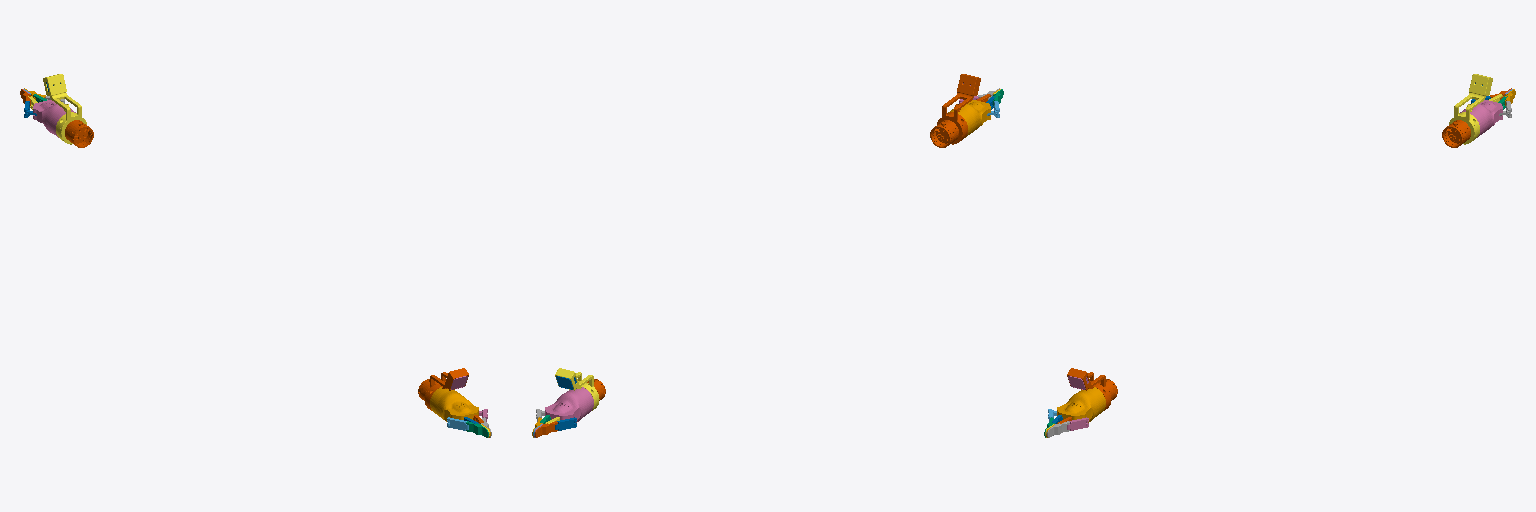
--- Render facts (derived) ---
Views: 3 orthographic renders of the robot side by side, from view 1: azimuth 30°, elevation 25°; view 2: azimuth 150°, elevation 25°; view 3: azimuth 330°, elevation 25°.
Robot: genie — 47 links, 46 joints (29 revolute, 1 prismatic, 16 fixed); root link base_footprint; default pose: every joint at zero.
Visible links, largest first — view 1: right_gripper_base, left_camera_stand, left_gripper_base, left_end_link, right_camera_stand; view 2: left_gripper_base, right_camera_stand, right_gripper_base, right_end_link, left_camera_stand; view 3: right_gripper_base, left_camera_stand, left_gripper_base, left_end_link, right_camera_stand.
Boxes of the visible links, x1,y1,x2,y2 form: right_gripper_base: [430, 387, 478, 421]; left_camera_stand: [43, 74, 86, 144]; left_gripper_base: [33, 100, 75, 137]; left_end_link: [65, 120, 93, 147]; right_camera_stand: [425, 368, 468, 410]; left_gripper_base: [545, 387, 593, 422]; right_camera_stand: [937, 74, 980, 144]; right_gripper_base: [948, 100, 990, 137]; right_end_link: [930, 120, 958, 147]; left_camera_stand: [555, 368, 599, 410]; right_gripper_base: [1057, 387, 1105, 422]; left_camera_stand: [1449, 74, 1492, 144]; left_gripper_base: [1460, 100, 1502, 137]; left_end_link: [1442, 120, 1470, 147]; right_camera_stand: [1067, 368, 1111, 410].
Bounding box of the posed robot: 0.114 × 2.3 × 0.1504 m (x, y, z).
Meshes: 20 distinct files referenced, 24 mesh visuals loaded (8 OBJ); not drawn: 19 (reference not matched to a file when rendering).

robot.urdf — genie:
<?xml version="1.0" ?>
<!-- =================================================================================== -->
<!-- |    This document was autogenerated by xacro from robot.xacro                    | -->
<!-- |    EDITING THIS FILE BY HAND IS NOT RECOMMENDED                                 | -->
<!-- =================================================================================== -->
<!-- =================================================================================== -->
<!-- |    Complete Robot Description for Agibot G1                                     | -->
<!-- |    This file includes the base robot structure and both arms                    | -->
<!-- =================================================================================== -->
<robot name="genie">
	<!-- Base links -->
	<link name="base_footprint"/>
	<joint name="base_footprint_joint" type="fixed">
		<origin xyz="0 0 0.211"/>
		<parent link="base_footprint"/>
		<child link="base_link"/>
	</joint>
	<link name="base_link">
		<inertial>
			<origin xyz="-0.0134486971267798 0.00152103941353612 -0.0320076754329413"/>
			<mass value="23.2085382238952"/>
			<inertia ixx="0.386955641760608" ixy="0.000135417314593726" ixz="0.00669301645720665" iyy="0.366800407621218"
							 iyz="0.000105713634260505" izz="0.546852919828475"/>
		</inertial>
		<visual>
			<geometry>
				<mesh filename="package://agibot_g1_description/meshes/base/base.obj"/>
			</geometry>
		</visual>
		<collision>
			<origin xyz="-0.10913086 0.0 0.5971875"/>
			<geometry>
				<box size="0.29833984 0.3376392 1.0"/>
			</geometry>
		</collision>
		<collision>
			<origin xyz="0.0 0.0 -0.061"/>
			<geometry>
				<box size="0.5996094 0.449 0.30273438"/>
			</geometry>
		</collision>
	</link>
	<link name="body_link1">
		<inertial>
			<origin xyz="0.0338351537064605 -0.00248044044451858 0.000838431095422365"/>
			<mass value="3.26275452360108"/>
			<inertia ixx="0.0128301877197417" ixy="8.24967996575627e-06" ixz="1.38254543337324e-05" iyy="0.006104110250297"
							 iyz="-7.99392548994692e-06" izz="0.0111721084996867"/>
		</inertial>
		<visual>
			<geometry>
				<mesh filename="package://agibot_g1_description/meshes/base/body_link1.obj"/>
			</geometry>
		</visual>
		<collision>
			<origin xyz="0.10278320000000002 0.1 -0.013671875"/>
			<geometry>
				<box size="0.16064453 0.05555534399999999 0.1328125"/>
			</geometry>
		</collision>
		<collision>
			<origin xyz="0.10180664 -0.1 0.0"/>
			<geometry>
				<box size="0.16259765999999998 0.04375648500000001 0.16015625"/>
			</geometry>
		</collision>
	</link>
	<link name="body_link2">
		<inertial>
			<origin xyz="0.193733558855111 -0.000484180179482319 -0.00124011422952511"/>
			<mass value="7.53199207979272"/>
			<inertia ixx="0.016546682835947" ixy="0.000274441382484697" ixz="0.00102757387076422" iyy="0.0445441227006132"
							 iyz="-0.000236858278708531" izz="0.0402036337794082"/>
		</inertial>
		<visual>
			<geometry>
				<mesh filename="package://agibot_g1_description/meshes/base/body_link2.obj"/>
			</geometry>
			<origin rpy="0.0 0.0 -1.5707963267948966"/>
		</visual>
		<collision>
			<origin xyz="0.0068359375 -0.00034356117 0.0"/>
			<geometry>
				<cylinder length="0.08697056999999997" radius="0.09662318"/>
			</geometry>
		</collision>
		<collision>
			<origin xyz="0.0068359375 -0.00034356117 0.043485284999999985"/>
			<geometry>
				<sphere radius="0.09662318"/>
			</geometry>
		</collision>
		<collision>
			<origin xyz="0.0068359375 -0.00034356117 -0.043485284999999985"/>
			<geometry>
				<sphere radius="0.09662318"/>
			</geometry>
		</collision>
		<collision>
			<origin rpy="0.0 0.0 -1.5708" xyz="0.008 -0.248 0.0"/>
			<geometry>
				<box size="0.34570312 0.18107724 0.3125"/>
			</geometry>
		</collision>
	</link>
	<link name="head_link1">
		<inertial>
			<origin xyz="0.0446068140025754 0.00241753143645124 0.0528373754603559"/>
			<mass value="0.414342871921048"/>
			<inertia ixx="0.000158695728344024" ixy="-1.04590928109554e-06" ixz="-6.58530903139189e-06"
							 iyy="0.000117742864399469" iyz="-2.65011299996072e-06" izz="0.000170947040827065"/>
		</inertial>
		<visual>
			<geometry>
				<mesh filename="package://agibot_g1_description/meshes/base/head_link1.obj"/>
			</geometry>
		</visual>
	</link>
	<link name="head_link2">
		<inertial>
			<origin xyz="0.0257009265816389 0.0316254080188787 -3.77390122592164e-05"/>
			<mass value="0.707063977171202"/>
			<inertia ixx="0.00205409595373573" ixy="0.000347730118005016" ixz="-2.13857752451204e-06"
							 iyy="0.00200357281313449" iyz="5.16150600423908e-08" izz="0.00184999028444405"/>
		</inertial>
		<visual>
			<geometry>
				<mesh filename="package://agibot_g1_description/meshes/base/head_link2.obj"/>
			</geometry>
			<origin rpy="-3.141592653589793 0.0 0.0"/>
		</visual>
		<collision>
			<geometry>
				<sphere radius="0.11257068650657154"/>
			</geometry>
			<origin xyz="0.011500973396434619 -0.0252600143348118 0.0008537154007319386"/>
		</collision>
	</link>
	<!-- Base joints -->
	<joint name="body_joint1" type="prismatic">
		<parent link="base_link"/>
		<child link="body_link1"/>
		<origin xyz="0.0 0.0 0.4285"/>
		<axis xyz="0.0 0.0 1.0"/>
		<limit effort="1000.0" lower="0.0" upper="0.5" velocity="0.1"/>
	</joint>
	<joint name="body_joint2" type="revolute">
		<parent link="body_link1"/>
		<child link="body_link2"/>
		<origin rpy="-1.5707963267948966 0.0 0.0" xyz="0.131 0.0 0.0"/>
		<axis xyz="0.0 0.0 1.0"/>
		<limit effort="100.0" lower="0.0" upper="1.5707963267948966" velocity="0.5"/>
	</joint>
	<!-- Head joints -->
	<joint name="head_joint1" type="revolute">
		<parent link="body_link2"/>
		<child link="head_link1"/>
		<origin rpy="1.5707963267948966 0.0 0.0" xyz="0.0 -0.441 0.0"/>
		<axis xyz="0.0 0.0 1.0"/>
		<limit effort="50.0" lower="-1.5707963267948966" upper="1.5707963267948966" velocity="1.0"/>
	</joint>
	<joint name="head_joint2" type="revolute">
		<parent link="head_link1"/>
		<child link="head_link2"/>
		<origin rpy="-1.5707963267948966 0.0 0.0" xyz="0.050238 0.0 0.060065"/>
		<axis xyz="0.0 0.0 1.0"/>
		<limit effort="50.0" lower="-0.3490658503988659" upper="0.5235987755982988" velocity="1.0"/>
	</joint>
	<!-- Arm base link -->
	<link name="left_base_link">
		<inertial>
			<origin xyz="0.00020641 -0.00057488 0.032296"/>
			<mass value="0.37595"/>
			<inertia ixx="0.00024335" ixy="1.2188e-06" ixz="2.4281e-06" iyy="0.00024039" iyz="-6.6932e-06" izz="0.00032195"/>
		</inertial>
		<visual>
			<geometry>
				<mesh filename="package://agibot_g1_description/meshes/arm/base_link.obj"/>
			</geometry>
		</visual>
	</link>
	<!-- Arm links -->
	<link name="left_link1">
		<inertial>
			<origin xyz="0.0012655 -0.00043778 -0.018388"/>
			<mass value="0.4936"/>
			<inertia ixx="0.00075396" ixy="-2.4144e-06" ixz="-1.8364e-06" iyy="0.00065755" iyz="1.2174e-06" izz="0.00031848"/>
		</inertial>
		<visual>
			<geometry>
				<mesh filename="package://agibot_g1_description/meshes/arm/link1.obj"/>
			</geometry>
		</visual>
		<collision>
			<geometry>
				<cylinder length="0.16642063483595848" radius="0.05579268228774888"/>
			</geometry>
			<origin rpy="0.0 0.0 -1.2566370614359172" xyz="0.0026814433577366636 0.0006133775157398935 -0.04071124829351902"/>
		</collision>
	</link>
	<link name="left_link2">
		<inertial>
			<origin xyz="-0.00044207 -0.082298 0.00019486"/>
			<mass value="0.46245"/>
			<inertia ixx="0.00065719" ixy="3.7112e-07" ixz="-3.6668e-06" iyy="0.00043459" iyz="-2.517e-05" izz="0.00072571"/>
		</inertial>
		<visual>
			<geometry>
				<mesh filename="package://agibot_g1_description/meshes/arm/link2.obj"/>
			</geometry>
		</visual>
		<collision>
			<origin rpy="1.5707963267948966 0 0" xyz="0.0 -0.044062052 0.0009765625"/>
			<geometry>
				<cylinder length="0.18085919" radius="0.06302423"/>
			</geometry>
		</collision>
	</link>
	<link name="left_link3">
		<inertial>
			<origin xyz="0.0010558 4.4416e-05 -0.056128"/>
			<mass value="0.50026"/>
			<inertia ixx="0.0013016" ixy="3.1401e-06" ixz="1.4255e-05" iyy="0.001427" iyz="2.4361e-05" izz="0.00033587"/>
		</inertial>
		<visual>
			<geometry>
				<mesh filename="package://agibot_g1_description/meshes/arm/link3.obj"/>
			</geometry>
		</visual>
		<collision>
			<origin xyz="0.0006559932284637068 -2.2628975236450855e-05 -0.07219303026795387"/>
			<geometry>
				<cylinder length="0.22061403840780258" radius="0.05216156143823925"/>
			</geometry>
		</collision>
	</link>
	<link name="left_link4">
		<inertial>
			<origin xyz="2.4212e-05 -0.06248 0.002536"/>
			<mass value="0.27473"/>
			<inertia ixx="0.00029283" ixy="4.5586e-07" ixz="5.8042e-08" iyy="0.00018852" iyz="-1.116e-06" izz="0.00031238"/>
		</inertial>
		<visual>
			<geometry>
				<mesh filename="package://agibot_g1_description/meshes/arm/link4.obj"/>
			</geometry>
		</visual>
		<collision>
			<origin rpy="1.5707963267948966 0 0" xyz="0.0 -0.03817895 -0.0043945312"/>
			<geometry>
				<cylinder length="0.154955404" radius="0.057891708"/>
			</geometry>
		</collision>
	</link>
	<link name="left_link5">
		<inertial>
			<origin xyz="2.6223e-06 -0.00023041 -0.024141"/>
			<mass value="0.25139"/>
			<inertia ixx="0.00023516" ixy="-6.5868e-09" ixz="-1.9428e-08" iyy="0.00028807" iyz="-1.2108e-05"
							 izz="0.00013068"/>
		</inertial>
		<visual>
			<geometry>
				<mesh filename="package://agibot_g1_description/meshes/arm/link5.obj"/>
			</geometry>
		</visual>
		<collision>
			<origin xyz="-0.00022255510134868567 -4.227476414728204e-05 -0.03344946540892124"/>
			<geometry>
				<cylinder length="0.13423806056380272" radius="0.04562028545392604"/>
			</geometry>
		</collision>
	</link>
	<link name="left_link6">
		<inertial>
			<origin xyz="5.0382e-06 -0.086696 0.002556"/>
			<mass value="0.26634"/>
			<inertia ixx="0.00031434" ixy="-1.2113e-09" ixz="1.0011e-07" iyy="0.00014464" iyz="-2.033e-05" izz="0.00032449"/>
		</inertial>
		<visual>
			<geometry>
				<mesh filename="package://agibot_g1_description/meshes/arm/link6.obj"/>
			</geometry>
		</visual>
		<collision>
			<origin rpy="0.0 -1.4835107730827122 -1.56897465223053"
							xyz="-1.7782549414354032e-05 -0.05507596972928094 -0.0017447156928267265"/>
			<geometry>
				<cylinder length="0.18272488500982115" radius="0.04857149291994264"/>
			</geometry>
		</collision>
	</link>
	<link name="left_end_link">
		<inertial>
			<origin xyz="-7.5134e-05 -0.00024521 -0.016705"/>
			<mass value="0.06158"/>
			<inertia ixx="1.8407e-05" ixy="3.4818e-08" ixz="-3.2902e-09" iyy="1.818e-05" iyz="1.1326e-07" izz="2.8547e-05"/>
		</inertial>
		<visual>
			<geometry>
				<mesh filename="package://agibot_g1_description/meshes/arm/link7.obj"/>
			</geometry>
		</visual>
		<collision>
			<origin rpy="3.141592653589793 -1.2246467991473532e-16 3.141592653589793"
							xyz="-4.552953707661759e-05 -0.002300474691790042 -0.02249999972991645"/>
			<geometry>
				<cylinder length="0.045999998692423105" radius="0.030799950382754494"/>
			</geometry>
		</collision>
	</link>
	<!-- Arm joints -->
	<joint name="left_joint1" type="revolute">
		<parent link="left_base_link"/>
		<child link="left_link1"/>
		<origin xyz="0.0 0.0 0.1859"/>
		<axis xyz="0.0 0.0 1.0"/>
		<limit effort="60.0" lower="-3.14" upper="3.14" velocity="3.14"/>
	</joint>
	<joint name="left_joint2" type="revolute">
		<parent link="left_link1"/>
		<child link="left_link2"/>
		<origin rpy="-1.5707963267948966 0.0 1.5707963267948966" xyz="0.0 0.0 0.0"/>
		<axis xyz="0.0 0.0 1.0"/>
		<limit effort="60.0" lower="-2.09" upper="1.48" velocity="3.14"/>
	</joint>
	<joint name="left_joint3" type="revolute">
		<parent link="left_link2"/>
		<child link="left_link3"/>
		<origin rpy="-1.5707963267948966 1.5707963267948966 3.141592653589793" xyz="0.0 -0.305 0.0"/>
		<axis xyz="0.0 0.0 1.0"/>
		<limit effort="60.0" lower="-3.10" upper="3.10" velocity="3.14"/>
	</joint>
	<joint name="left_joint4" type="revolute">
		<parent link="left_link3"/>
		<child link="left_link4"/>
		<origin rpy="-1.5707963267948966 0.0 3.141592653589793" xyz="0.0 0.0 0.0"/>
		<axis xyz="0.0 0.0 1.0"/>
		<limit effort="60.0" lower="-1.48" upper="1.48" velocity="3.14"/>
	</joint>
	<joint name="left_joint5" type="revolute">
		<parent link="left_link4"/>
		<child link="left_link5"/>
		<origin rpy="-1.5707963267948966 0.0 -3.141592653589793" xyz="0.0 -0.1975 0.0"/>
		<axis xyz="0.0 0.0 1.0"/>
		<limit effort="30.0" lower="-3.10" upper="3.10" velocity="3.14"/>
	</joint>
	<joint name="left_joint6" type="revolute">
		<parent link="left_link5"/>
		<child link="left_link6"/>
		<origin rpy="-1.5707963267948966 0.0 0.0" xyz="0.0 0.0 0.0"/>
		<axis xyz="0.0 0.0 1.0"/>
		<limit effort="30.0" lower="-1.74" upper="1.74" velocity="3.14"/>
	</joint>
	<joint name="left_joint7" type="revolute">
		<origin rpy="1.5707963267948966 0.0 0.0" xyz="0.0 -0.1805 0.0"/>
		<parent link="left_link6"/>
		<child link="left_end_link"/>
		<axis xyz="0.0 0.0 1.0"/>
		<limit effort="30.0" lower="-3.10" upper="3.10" velocity="3.14"/>
	</joint>
	<!-- Arm base link -->
	<link name="right_base_link">
		<inertial>
			<origin xyz="-0.00020641 0.00057488 0.032296"/>
			<mass value="0.37595"/>
			<inertia ixx="0.00024335" ixy="1.2188e-06" ixz="-2.4281e-06" iyy="0.00024039" iyz="6.6932e-06" izz="0.00032195"/>
		</inertial>
		<visual>
			<geometry>
				<mesh filename="package://agibot_g1_description/meshes/arm/base_link.obj"/>
			</geometry>
		</visual>
	</link>
	<!-- Arm links -->
	<link name="right_link1">
		<inertial>
			<origin xyz="-0.0012655 -0.00043778 -0.018388"/>
			<mass value="0.4936"/>
			<inertia ixx="0.00075396" ixy="2.4144e-06" ixz="1.8364e-06" iyy="0.00065755" iyz="1.2174e-06" izz="0.00031848"/>
		</inertial>
		<visual>
			<geometry>
				<mesh filename="package://agibot_g1_description/meshes/arm/link1.obj"/>
			</geometry>
		</visual>
		<collision>
			<geometry>
				<cylinder length="0.16642063483595848" radius="0.05579268228774888"/>
			</geometry>
			<origin rpy="0.0 0.0 1.2566370614359172" xyz="-0.0026814433577366636 0.0006133775157398935 -0.04071124829351902"/>
		</collision>
	</link>
	<link name="right_link2">
		<inertial>
			<origin xyz="0.00044207 -0.082298 0.00019486"/>
			<mass value="0.46245"/>
			<inertia ixx="0.00065719" ixy="3.7112e-07" ixz="-3.6668e-06" iyy="0.00043459" iyz="-2.517e-05" izz="0.00072571"/>
		</inertial>
		<visual>
			<geometry>
				<mesh filename="package://agibot_g1_description/meshes/arm/link2.obj"/>
			</geometry>
		</visual>
		<collision>
			<origin rpy="1.5707963267948966 0 0" xyz="0.0 -0.044062052 0.0009765625"/>
			<geometry>
				<cylinder length="0.18085919" radius="0.06302423"/>
			</geometry>
		</collision>
	</link>
	<link name="right_link3">
		<inertial>
			<origin xyz="-0.0010558 4.4416e-05 -0.056128"/>
			<mass value="0.50026"/>
			<inertia ixx="0.0013016" ixy="3.1401e-06" ixz="1.4255e-05" iyy="0.001427" iyz="2.4361e-05" izz="0.00033587"/>
		</inertial>
		<visual>
			<geometry>
				<mesh filename="package://agibot_g1_description/meshes/arm/link3.obj"/>
			</geometry>
		</visual>
		<collision>
			<origin xyz="-0.0006559932284637068 -2.2628975236450855e-05 -0.07219303026795387"/>
			<geometry>
				<cylinder length="0.22061403840780258" radius="0.05216156143823925"/>
			</geometry>
		</collision>
	</link>
	<link name="right_link4">
		<inertial>
			<origin xyz="2.4212e-05 -0.06248 0.002536"/>
			<mass value="0.27473"/>
			<inertia ixx="0.00029283" ixy="4.5586e-07" ixz="5.8042e-08" iyy="0.00018852" iyz="-1.116e-06" izz="0.00031238"/>
		</inertial>
		<visual>
			<geometry>
				<mesh filename="package://agibot_g1_description/meshes/arm/link4.obj"/>
			</geometry>
		</visual>
		<collision>
			<origin rpy="1.5707963267948966 0 0" xyz="0.0 -0.03817895 -0.0043945312"/>
			<geometry>
				<cylinder length="0.154955404" radius="0.057891708"/>
			</geometry>
		</collision>
	</link>
	<link name="right_link5">
		<inertial>
			<origin xyz="2.6223e-06 -0.00023041 -0.024141"/>
			<mass value="0.25139"/>
			<inertia ixx="0.00023516" ixy="-6.5868e-09" ixz="-1.9428e-08" iyy="0.00028807" iyz="-1.2108e-05"
							 izz="0.00013068"/>
		</inertial>
		<visual>
			<geometry>
				<mesh filename="package://agibot_g1_description/meshes/arm/link5.obj"/>
			</geometry>
		</visual>
		<collision>
			<origin xyz="0.00022255510134868567 -4.227476414728204e-05 -0.03344946540892124"/>
			<geometry>
				<cylinder length="0.13423806056380272" radius="0.04562028545392604"/>
			</geometry>
		</collision>
	</link>
	<link name="right_link6">
		<inertial>
			<origin xyz="5.0382e-06 -0.086696 0.002556"/>
			<mass value="0.26634"/>
			<inertia ixx="0.00031434" ixy="-1.2113e-09" ixz="1.0011e-07" iyy="0.00014464" iyz="-2.033e-05" izz="0.00032449"/>
		</inertial>
		<visual>
			<geometry>
				<mesh filename="package://agibot_g1_description/meshes/arm/link6.obj"/>
			</geometry>
		</visual>
		<collision>
			<origin rpy="0.0 -1.4835107730827122 -1.56897465223053"
							xyz="1.7782549414354032e-05 -0.05507596972928094 -0.0017447156928267265"/>
			<geometry>
				<cylinder length="0.18272488500982115" radius="0.04857149291994264"/>
			</geometry>
		</collision>
	</link>
	<link name="right_end_link">
		<inertial>
			<origin xyz="-7.5134e-05 -0.00024521 -0.016705"/>
			<mass value="0.06158"/>
			<inertia ixx="1.8407e-05" ixy="3.4818e-08" ixz="-3.2902e-09" iyy="1.818e-05" iyz="1.1326e-07" izz="2.8547e-05"/>
		</inertial>
		<visual>
			<geometry>
				<mesh filename="package://agibot_g1_description/meshes/arm/link7.obj"/>
			</geometry>
		</visual>
		<collision>
			<origin rpy="3.141592653589793 -1.2246467991473532e-16 3.141592653589793"
							xyz="-4.552953707661759e-05 -0.002300474691790042 -0.02249999972991645"/>
			<geometry>
				<cylinder length="0.045999998692423105" radius="0.030799950382754494"/>
			</geometry>
		</collision>
	</link>
	<!-- Arm joints -->
	<joint name="right_joint1" type="revolute">
		<parent link="right_base_link"/>
		<child link="right_link1"/>
		<origin xyz="0.0 0.0 0.1859"/>
		<axis xyz="0.0 0.0 -1.0"/>
		<limit effort="60.0" lower="-3.14" upper="3.14" velocity="3.14"/>
	</joint>
	<joint name="right_joint2" type="revolute">
		<parent link="right_link1"/>
		<child link="right_link2"/>
		<origin rpy="-1.5707963267948966 0.0 -1.5707963267948966" xyz="0.0 0.0 0.0"/>
		<axis xyz="0.0 0.0 -1.0"/>
		<limit effort="60.0" lower="-2.09" upper="1.48" velocity="3.14"/>
	</joint>
	<joint name="right_joint3" type="revolute">
		<parent link="right_link2"/>
		<child link="right_link3"/>
		<origin rpy="-1.5707963267948966 -1.5707963267948966 3.141592653589793" xyz="0.0 -0.305 0.0"/>
		<axis xyz="0.0 0.0 -1.0"/>
		<limit effort="60.0" lower="-3.10" upper="3.10" velocity="3.14"/>
	</joint>
	<joint name="right_joint4" type="revolute">
		<parent link="right_link3"/>
		<child link="right_link4"/>
		<origin rpy="-1.5707963267948966 0.0 3.141592653589793" xyz="0.0 0.0 0.0"/>
		<axis xyz="0.0 0.0 -1.0"/>
		<limit effort="60.0" lower="-1.48" upper="1.48" velocity="3.14"/>
	</joint>
	<joint name="right_joint5" type="revolute">
		<parent link="right_link4"/>
		<child link="right_link5"/>
		<origin rpy="-1.5707963267948966 0.0 3.141592653589793" xyz="0.0 -0.1975 0.0"/>
		<axis xyz="0.0 0.0 -1.0"/>
		<limit effort="30.0" lower="-3.10" upper="3.10" velocity="3.14"/>
	</joint>
	<joint name="right_joint6" type="revolute">
		<parent link="right_link5"/>
		<child link="right_link6"/>
		<origin rpy="-1.5707963267948966 0.0 0.0" xyz="0.0 0.0 0.0"/>
		<axis xyz="0.0 0.0 -1.0"/>
		<limit effort="30.0" lower="-1.74" upper="1.74" velocity="3.14"/>
	</joint>
	<joint name="right_joint7" type="revolute">
		<origin rpy="1.5707963267948966 0.0 0.0" xyz="0.0 -0.1805 0.0"/>
		<parent link="right_link6"/>
		<child link="right_end_link"/>
		<axis xyz="0.0 0.0 -1.0"/>
		<limit effort="30.0" lower="-3.10" upper="3.10" velocity="3.14"/>
	</joint>
	<link name="left_gripper_base">
		<inertial>
			<origin xyz="1.23989288637867E-06 3.27564415436087E-07 0.0536186975993762"/>
			<mass value="0.443105756928829"/>
			<inertia ixx="0.00064200574020552" ixy="-1.51180224931458E-07" ixz="7.24174172220287E-09"
							 iyy="0.00066998312004943" iyz="2.73584170951165E-09" izz="0.000278949393571484"/>
		</inertial>
		<visual>
			<geometry>
				<mesh filename="package://changingtek_description/meshes/AG2F120S/visual/gripper_base.obj"/>
			</geometry>
		</visual>
		<collision>
			<geometry>
				<mesh filename="package://changingtek_description/meshes/AG2F120S/collision/gripper_base.stl"/>
			</geometry>
		</collision>
	</link>
	<link name="left_left_1_link">
		<inertial>
			<origin xyz="0.00656387870913618 0.024850259757102 -9.40817030196858E-10"/>
			<mass value="0.0112899386472626"/>
			<inertia ixx="1.96944973967669E-06" ixy="6.42395813223716E-07" ixz="-1.07950451056367E-14"
							 iyy="1.39704780795747E-06" iyz="-1.48209813327181E-14" izz="2.47457179553145E-06"/>
		</inertial>
		<visual>
			<geometry>
				<mesh filename="package://changingtek_description/meshes/AG2F120S/visual/link_1.obj"/>
			</geometry>
		</visual>
		<collision>
			<geometry>
				<mesh filename="package://changingtek_description/meshes/AG2F120S/collision/link_1.stl"/>
			</geometry>
		</collision>
	</link>
	<joint name="left_gripper_joint" type="revolute">
		<origin rpy="1.5708 0 3.1416" xyz="-0.032553 0 0.10644"/>
		<parent link="left_gripper_base"/>
		<child link="left_left_1_link"/>
		<axis xyz="0 0 -1"/>
		<limit effort="40" lower="0" upper="1" velocity="4.1887902047863905"/>
	</joint>
	<link name="left_left_support_link">
		<inertial>
			<origin xyz="-0.011970095332009 0.0238338043684485 -1.36624428992904E-06"/>
			<mass value="0.0140092102116716"/>
			<inertia ixx="4.13674978137002E-06" ixy="9.81573398608352E-07" ixz="-2.87921970465553E-11"
							 iyy="1.1362453186293E-06" iyz="2.94726072168702E-11" izz="4.10226218364235E-06"/>
		</inertial>
		<visual>
			<geometry>
				<mesh filename="package://changingtek_description/meshes/AG2F120S/visual/support_link.obj"/>
			</geometry>
		</visual>
		<collision>
			<geometry>
				<mesh filename="package://changingtek_description/meshes/AG2F120S/collision/support_link.stl"/>
			</geometry>
		</collision>
	</link>
	<joint name="left_left_support_joint" type="revolute">
		<origin xyz="-0.0093594 0.056229 0"/>
		<parent link="left_left_1_link"/>
		<child link="left_left_support_link"/>
		<axis xyz="0 0 1"/>
		<limit effort="40" lower="0" upper="1" velocity="4.1887902047863905"/>
		<mimic joint="left_gripper_joint" multiplier="1" offset="0"/>
	</joint>
	<link name="left_left_pad_link">
		<inertial>
			<origin xyz="1.46688816627348E-09 0.00209017783344978 -8.17280129359337E-17"/>
			<mass value="0.00332411394949541"/>
			<inertia ixx="5.5867126170785E-07" ixy="2.9966962370347E-20" ixz="1.44978830317617E-23" iyy="1.45407135182096E-07"
							 iyz="-1.60867378777053E-21" izz="4.18250297449997E-07"/>
		</inertial>
		<visual>
			<geometry>
				<mesh filename="package://changingtek_description/meshes/AG2F120S/visual/pad_link.obj"/>
			</geometry>
		</visual>
		<collision>
			<geometry>
				<mesh filename="package://changingtek_description/meshes/AG2F120S/collision/pad_link.stl"/>
			</geometry>
		</collision>
	</link>
	<joint name="left_left_pad_joint" type="fixed">
		<origin xyz="-0.022056 0.044306 0"/>
		<parent link="left_left_support_link"/>
		<child link="left_left_pad_link"/>
	</joint>
	<link name="left_left_2_link">
		<inertial>
			<origin xyz="-0.00438952959966343 0.0248815722409523 -2.55135883071891E-05"/>
			<mass value="0.00803955821311802"/>
			<inertia ixx="1.15079028835042E-06" ixy="1.13853775681911E-07" ixz="-1.79492796413463E-10"
							 iyy="4.68655200337902E-07" iyz="-4.49903912976825E-10" izz="8.47367915692972E-07"/>
		</inertial>
		<visual>
			<geometry>
				<mesh filename="package://changingtek_description/meshes/AG2F120S/visual/link_2.obj"/>
			</geometry>
		</visual>
		<collision>
			<geometry>
				<mesh filename="package://changingtek_description/meshes/AG2F120S/collision/link_2.stl"/>
			</geometry>
		</collision>
	</link>
	<joint name="left_left_2_joint" type="revolute">
		<origin rpy="1.5708 0 3.1416" xyz="-0.017 0 0.122"/>
		<parent link="left_gripper_base"/>
		<child link="left_left_2_link"/>
		<axis xyz="0 0 -1"/>
		<limit effort="40" lower="0" upper="1" velocity="4.1887902047863905"/>
		<mimic joint="left_gripper_joint" multiplier="1" offset="0"/>
	</joint>
	<link name="left_right_2_link">
		<inertial>
			<origin xyz="-0.00438952959968201 0.0248815722409522 -2.5513588307359E-05"/>
			<mass value="0.00803955821311803"/>
			<inertia ixx="1.15079028835042E-06" ixy="1.13853775681912E-07" ixz="-1.79492796413511E-10"
							 iyy="4.68655200337903E-07" iyz="-4.49903912976901E-10" izz="8.47367915692974E-07"/>
		</inertial>
		<visual>
			<geometry>
				<mesh filename="package://changingtek_description/meshes/AG2F120S/visual/link_2.obj"/>
			</geometry>
		</visual>
		<collision>
			<geometry>
				<mesh filename="package://changingtek_description/meshes/AG2F120S/collision/link_2.stl"/>
			</geometry>
		</collision>
	</link>
	<joint name="left_right_2_joint" type="revolute">
		<origin rpy="1.5708 0 0" xyz="0.017 0 0.122"/>
		<parent link="left_gripper_base"/>
		<child link="left_right_2_link"/>
		<axis xyz="0 0 1"/>
		<limit effort="40" lower="0" upper="1" velocity="4.1887902047863905"/>
		<mimic joint="left_left_2_joint" multiplier="-1" offset="0"/>
	</joint>
	<link name="left_right_1_link">
		<inertial>
			<origin xyz="0.00656387870564603 0.0248502597572661 -9.40812230336897E-10"/>
			<mass value="0.0112899386472626"/>
			<inertia ixx="1.96944973967663E-06" ixy="6.42395813223747E-07" ixz="-1.07950449101923E-14"
							 iyy="1.39704780795753E-06" iyz="-1.48209815851649E-14" izz="2.47457179553146E-06"/>
		</inertial>
		<visual>
			<geometry>
				<mesh filename="package://changingtek_description/meshes/AG2F120S/visual/link_1.obj"/>
			</geometry>
		</visual>
		<collision>
			<geometry>
				<mesh filename="package://changingtek_description/meshes/AG2F120S/collision/link_1.stl"/>
			</geometry>
		</collision>
	</link>
	<joint name="left_right_1_joint" type="revolute">
		<origin rpy="1.5708 0 0" xyz="0.032553 0 0.10644"/>
		<parent link="left_gripper_base"/>
		<child link="left_right_1_link"/>
		<axis xyz="0 0 1"/>
		<limit effort="40" lower="0" upper="1" velocity="4.1887902047863905"/>
		<mimic joint="left_gripper_joint" multiplier="-1" offset="0"/>
	</joint>
	<link name="left_right_support_link">
		<inertial>
			<origin xyz="-0.011970095112324 0.0238338043682057 -1.36624428997256E-06"/>
			<mass value="0.0140092102116716"/>
			<inertia ixx="4.13674978136988E-06" ixy="9.81573398608576E-07" ixz="-2.87921970465403E-11"
							 iyy="1.13624531862944E-06" iyz="2.94726072165632E-11" izz="4.10226218364236E-06"/>
		</inertial>
		<visual>
			<geometry>
				<mesh filename="package://changingtek_description/meshes/AG2F120S/visual/support_link.obj"/>
			</geometry>
		</visual>
		<collision>
			<geometry>
				<mesh filename="package://changingtek_description/meshes/AG2F120S/collision/support_link.stl"/>
			</geometry>
		</collision>
	</link>
	<joint name="left_right_support_joint" type="revolute">
		<origin xyz="-0.0093594 0.056229 0"/>
		<parent link="left_right_1_link"/>
		<child link="left_right_support_link"/>
		<axis xyz="0 0 1"/>
		<limit effort="40" lower="0" upper="1" velocity="4.1887902047863905"/>
		<mimic joint="left_right_1_joint" multiplier="-1" offset="0"/>
	</joint>
	<link name="left_right_pad_link">
		<inertial>
			<origin xyz="5.43457184440897E-09 0.00209017783344967 -1.21646039264426E-16"/>
			<mass value="0.00332411394949542"/>
			<inertia ixx="5.58671261707851E-07" ixy="3.06066210315894E-20" ixz="1.70379713307979E-23"
							 iyy="1.45407135182096E-07" iyz="-1.65096420438087E-21" izz="4.18250297449998E-07"/>
		</inertial>
		<visual>
			<geometry>
				<mesh filename="package://changingtek_description/meshes/AG2F120S/visual/pad_link.obj"/>
			</geometry>
		</visual>
		<collision>
			<geometry>
				<mesh filename="package://changingtek_description/meshes/AG2F120S/collision/pad_link.stl"/>
			</geometry>
		</collision>
	</link>
	<joint name="left_right_pad_joint" type="fixed">
		<origin xyz="-0.022056 0.044306 0"/>
		<parent link="left_right_support_link"/>
		<child link="left_right_pad_link"/>
	</joint>
	<joint name="left_gripper_center_joint" type="fixed">
		<origin rpy="-1.5708 -1.5708 0" xyz="0 0 0.2"/>
		<parent link="left_gripper_base"/>
		<child link="left_gripper_center"/>
	</joint>
	<link name="left_gripper_center"/>
	<link name="right_gripper_base">
		<inertial>
			<origin xyz="1.23989288637867E-06 3.27564415436087E-07 0.0536186975993762"/>
			<mass value="0.443105756928829"/>
			<inertia ixx="0.00064200574020552" ixy="-1.51180224931458E-07" ixz="7.24174172220287E-09"
							 iyy="0.00066998312004943" iyz="2.73584170951165E-09" izz="0.000278949393571484"/>
		</inertial>
		<visual>
			<geometry>
				<mesh filename="package://changingtek_description/meshes/AG2F120S/visual/gripper_base.obj"/>
			</geometry>
		</visual>
		<collision>
			<geometry>
				<mesh filename="package://changingtek_description/meshes/AG2F120S/collision/gripper_base.stl"/>
			</geometry>
		</collision>
	</link>
	<link name="right_left_1_link">
		<inertial>
			<origin xyz="0.00656387870913618 0.024850259757102 -9.40817030196858E-10"/>
			<mass value="0.0112899386472626"/>
			<inertia ixx="1.96944973967669E-06" ixy="6.42395813223716E-07" ixz="-1.07950451056367E-14"
							 iyy="1.39704780795747E-06" iyz="-1.48209813327181E-14" izz="2.47457179553145E-06"/>
		</inertial>
		<visual>
			<geometry>
				<mesh filename="package://changingtek_description/meshes/AG2F120S/visual/link_1.obj"/>
			</geometry>
		</visual>
		<collision>
			<geometry>
				<mesh filename="package://changingtek_description/meshes/AG2F120S/collision/link_1.stl"/>
			</geometry>
		</collision>
	</link>
	<joint name="right_gripper_joint" type="revolute">
		<origin rpy="1.5708 0 3.1416" xyz="-0.032553 0 0.10644"/>
		<parent link="right_gripper_base"/>
		<child link="right_left_1_link"/>
		<axis xyz="0 0 -1"/>
		<limit effort="40" lower="0" upper="1" velocity="4.1887902047863905"/>
	</joint>
	<link name="right_left_support_link">
		<inertial>
			<origin xyz="-0.011970095332009 0.0238338043684485 -1.36624428992904E-06"/>
			<mass value="0.0140092102116716"/>
			<inertia ixx="4.13674978137002E-06" ixy="9.81573398608352E-07" ixz="-2.87921970465553E-11"
							 iyy="1.1362453186293E-06" iyz="2.94726072168702E-11" izz="4.10226218364235E-06"/>
		</inertial>
		<visual>
			<geometry>
				<mesh filename="package://changingtek_description/meshes/AG2F120S/visual/support_link.obj"/>
			</geometry>
		</visual>
		<collision>
			<geometry>
				<mesh filename="package://changingtek_description/meshes/AG2F120S/collision/support_link.stl"/>
			</geometry>
		</collision>
	</link>
	<joint name="right_left_support_joint" type="revolute">
		<origin xyz="-0.0093594 0.056229 0"/>
		<parent link="right_left_1_link"/>
		<child link="right_left_support_link"/>
		<axis xyz="0 0 1"/>
		<limit effort="40" lower="0" upper="1" velocity="4.1887902047863905"/>
		<mimic joint="right_gripper_joint" multiplier="1" offset="0"/>
	</joint>
	<link name="right_left_pad_link">
		<inertial>
			<origin xyz="1.46688816627348E-09 0.00209017783344978 -8.17280129359337E-17"/>
			<mass value="0.00332411394949541"/>
			<inertia ixx="5.5867126170785E-07" ixy="2.9966962370347E-20" ixz="1.44978830317617E-23" iyy="1.45407135182096E-07"
							 iyz="-1.60867378777053E-21" izz="4.18250297449997E-07"/>
		</inertial>
		<visual>
			<geometry>
				<mesh filename="package://changingtek_description/meshes/AG2F120S/visual/pad_link.obj"/>
			</geometry>
		</visual>
		<collision>
			<geometry>
				<mesh filename="package://changingtek_description/meshes/AG2F120S/collision/pad_link.stl"/>
			</geometry>
		</collision>
	</link>
	<joint name="right_left_pad_joint" type="fixed">
		<origin xyz="-0.022056 0.044306 0"/>
		<parent link="right_left_support_link"/>
		<child link="right_left_pad_link"/>
	</joint>
	<link name="right_left_2_link">
		<inertial>
			<origin xyz="-0.00438952959966343 0.0248815722409523 -2.55135883071891E-05"/>
			<mass value="0.00803955821311802"/>
			<inertia ixx="1.15079028835042E-06" ixy="1.13853775681911E-07" ixz="-1.79492796413463E-10"
							 iyy="4.68655200337902E-07" iyz="-4.49903912976825E-10" izz="8.47367915692972E-07"/>
		</inertial>
		<visual>
			<geometry>
				<mesh filename="package://changingtek_description/meshes/AG2F120S/visual/link_2.obj"/>
			</geometry>
		</visual>
		<collision>
			<geometry>
				<mesh filename="package://changingtek_description/meshes/AG2F120S/collision/link_2.stl"/>
			</geometry>
		</collision>
	</link>
	<joint name="right_left_2_joint" type="revolute">
		<origin rpy="1.5708 0 3.1416" xyz="-0.017 0 0.122"/>
		<parent link="right_gripper_base"/>
		<child link="right_left_2_link"/>
		<axis xyz="0 0 -1"/>
		<limit effort="40" lower="0" upper="1" velocity="4.1887902047863905"/>
		<mimic joint="right_gripper_joint" multiplier="1" offset="0"/>
	</joint>
	<link name="right_right_2_link">
		<inertial>
			<origin xyz="-0.00438952959968201 0.0248815722409522 -2.5513588307359E-05"/>
			<mass value="0.00803955821311803"/>
			<inertia ixx="1.15079028835042E-06" ixy="1.13853775681912E-07" ixz="-1.79492796413511E-10"
							 iyy="4.68655200337903E-07" iyz="-4.49903912976901E-10" izz="8.47367915692974E-07"/>
		</inertial>
		<visual>
			<geometry>
				<mesh filename="package://changingtek_description/meshes/AG2F120S/visual/link_2.obj"/>
			</geometry>
		</visual>
		<collision>
			<geometry>
				<mesh filename="package://changingtek_description/meshes/AG2F120S/collision/link_2.stl"/>
			</geometry>
		</collision>
	</link>
	<joint name="right_right_2_joint" type="revolute">
		<origin rpy="1.5708 0 0" xyz="0.017 0 0.122"/>
		<parent link="right_gripper_base"/>
		<child link="right_right_2_link"/>
		<axis xyz="0 0 1"/>
		<limit effort="40" lower="0" upper="1" velocity="4.1887902047863905"/>
		<mimic joint="right_left_2_joint" multiplier="-1" offset="0"/>
	</joint>
	<link name="right_right_1_link">
		<inertial>
			<origin xyz="0.00656387870564603 0.0248502597572661 -9.40812230336897E-10"/>
			<mass value="0.0112899386472626"/>
			<inertia ixx="1.96944973967663E-06" ixy="6.42395813223747E-07" ixz="-1.07950449101923E-14"
							 iyy="1.39704780795753E-06" iyz="-1.48209815851649E-14" izz="2.47457179553146E-06"/>
		</inertial>
		<visual>
			<geometry>
				<mesh filename="package://changingtek_description/meshes/AG2F120S/visual/link_1.obj"/>
			</geometry>
		</visual>
		<collision>
			<geometry>
				<mesh filename="package://changingtek_description/meshes/AG2F120S/collision/link_1.stl"/>
			</geometry>
		</collision>
	</link>
	<joint name="right_right_1_joint" type="revolute">
		<origin rpy="1.5708 0 0" xyz="0.032553 0 0.10644"/>
		<parent link="right_gripper_base"/>
		<child link="right_right_1_link"/>
		<axis xyz="0 0 1"/>
		<limit effort="40" lower="0" upper="1" velocity="4.1887902047863905"/>
		<mimic joint="right_gripper_joint" multiplier="-1" offset="0"/>
	</joint>
	<link name="right_right_support_link">
		<inertial>
			<origin xyz="-0.011970095112324 0.0238338043682057 -1.36624428997256E-06"/>
			<mass value="0.0140092102116716"/>
			<inertia ixx="4.13674978136988E-06" ixy="9.81573398608576E-07" ixz="-2.87921970465403E-11"
							 iyy="1.13624531862944E-06" iyz="2.94726072165632E-11" izz="4.10226218364236E-06"/>
		</inertial>
		<visual>
			<geometry>
				<mesh filename="package://changingtek_description/meshes/AG2F120S/visual/support_link.obj"/>
			</geometry>
		</visual>
		<collision>
			<geometry>
				<mesh filename="package://changingtek_description/meshes/AG2F120S/collision/support_link.stl"/>
			</geometry>
		</collision>
	</link>
	<joint name="right_right_support_joint" type="revolute">
		<origin xyz="-0.0093594 0.056229 0"/>
		<parent link="right_right_1_link"/>
		<child link="right_right_support_link"/>
		<axis xyz="0 0 1"/>
		<limit effort="40" lower="0" upper="1" velocity="4.1887902047863905"/>
		<mimic joint="right_right_1_joint" multiplier="-1" offset="0"/>
	</joint>
	<link name="right_right_pad_link">
		<inertial>
			<origin xyz="5.43457184440897E-09 0.00209017783344967 -1.21646039264426E-16"/>
			<mass value="0.00332411394949542"/>
			<inertia ixx="5.58671261707851E-07" ixy="3.06066210315894E-20" ixz="1.70379713307979E-23"
							 iyy="1.45407135182096E-07" iyz="-1.65096420438087E-21" izz="4.18250297449998E-07"/>
		</inertial>
		<visual>
			<geometry>
				<mesh filename="package://changingtek_description/meshes/AG2F120S/visual/pad_link.obj"/>
			</geometry>
		</visual>
		<collision>
			<geometry>
				<mesh filename="package://changingtek_description/meshes/AG2F120S/collision/pad_link.stl"/>
			</geometry>
		</collision>
	</link>
	<joint name="right_right_pad_joint" type="fixed">
		<origin xyz="-0.022056 0.044306 0"/>
		<parent link="right_right_support_link"/>
		<child link="right_right_pad_link"/>
	</joint>
	<joint name="right_gripper_center_joint" type="fixed">
		<origin rpy="-1.5708 -1.5708 0" xyz="0 0 0.2"/>
		<parent link="right_gripper_base"/>
		<child link="right_gripper_center"/>
	</joint>
	<link name="right_gripper_center"/>
	<!-- Arm base links -->
	<link name="arm_base"/>
	<!-- Arm base joints -->
	<joint name="arm_base_joint" type="fixed">
		<parent link="body_link2"/>
		<child link="arm_base"/>
		<origin rpy="1.5707963267948966 0.0 0.0" xyz="0.0 -0.305 0.0"/>
	</joint>
	<joint name="left_base_joint" type="fixed">
		<parent link="arm_base"/>
		<child link="left_base_link"/>
		<origin rpy="-1.5707963267948966 0.0 0.0" xyz="0.0 0.025 0.0"/>
	</joint>
	<joint name="right_base_joint" type="fixed">
		<parent link="arm_base"/>
		<child link="right_base_link"/>
		<origin rpy="-1.5707963267948966 0.0 3.141592653589793" xyz="0.0 -0.025 0.0"/>
	</joint>
	<!-- Gripper joints -->
	<joint name="ee_left_joint" type="fixed">
		<origin xyz="0 0 0.027727" rpy="0 0 3.1415"/>
		<parent link="left_end_link"/>
		<child link="left_gripper_base"/>
	</joint>
	<joint name="ee_right_joint" type="fixed">
		<origin xyz="0 0 0.027727" rpy="0 0 3.1415"/>
		<parent link="right_end_link"/>
		<child link="right_gripper_base"/>
	</joint>
	<joint name="left_camera_stand" type="fixed">
		<parent link="left_end_link"/>
		<child link="left_camera_stand"/>
	</joint>
	<link name="left_camera_stand">
		<visual>
			<geometry>
				<mesh filename="package://agibot_g1_description/meshes/camera/120s_camera_stand.obj"/>
			</geometry>
		</visual>
	</link>
	<joint name="left_camera" type="fixed">
		<origin rpy="0 -1.117 1.5708" xyz="0 -0.079320 0.108617"/>
		<parent link="left_camera_stand"/>
		<child link="left_camera"/>
	</joint>
	<link name="left_camera">
		<visual>
			<geometry>
				<mesh filename="package://camera_models/meshes/d405/d405.obj"/>
			</geometry>
		</visual>
	</link>
	<joint name="right_camera_stand" type="fixed">
		<parent link="right_end_link"/>
		<child link="right_camera_stand"/>
	</joint>
	<link name="right_camera_stand">
		<visual>
			<geometry>
				<mesh filename="package://agibot_g1_description/meshes/camera/120s_camera_stand.obj"/>
			</geometry>
		</visual>
	</link>
	<joint name="right_camera" type="fixed">
		<origin rpy="0 -1.117 1.5708" xyz="0 -0.079320 0.108617"/>
		<parent link="right_camera_stand"/>
		<child link="right_camera"/>
	</joint>
	<link name="right_camera">
		<visual>
			<geometry>
				<mesh filename="package://camera_models/meshes/d405/d405.obj"/>
			</geometry>
		</visual>
	</link>
</robot>
